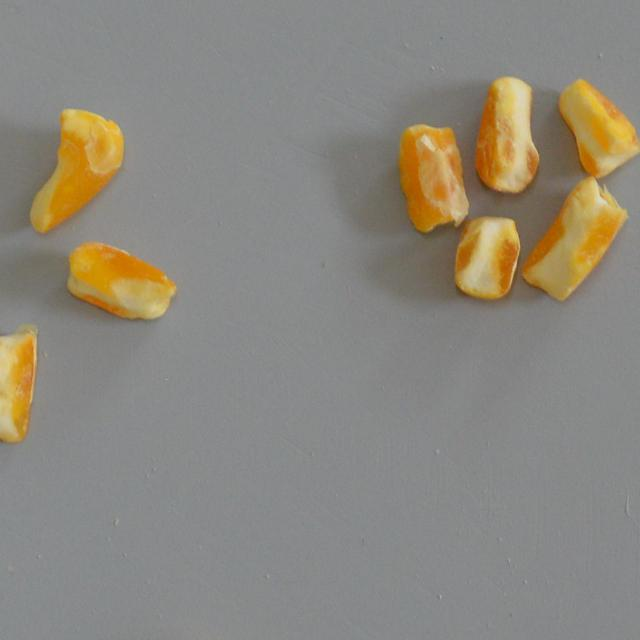dañado: (518, 172, 632, 304), (23, 100, 132, 238), (60, 237, 182, 326), (392, 116, 472, 238), (553, 72, 640, 184), (472, 68, 542, 194), (450, 212, 525, 302), (0, 312, 41, 450)
